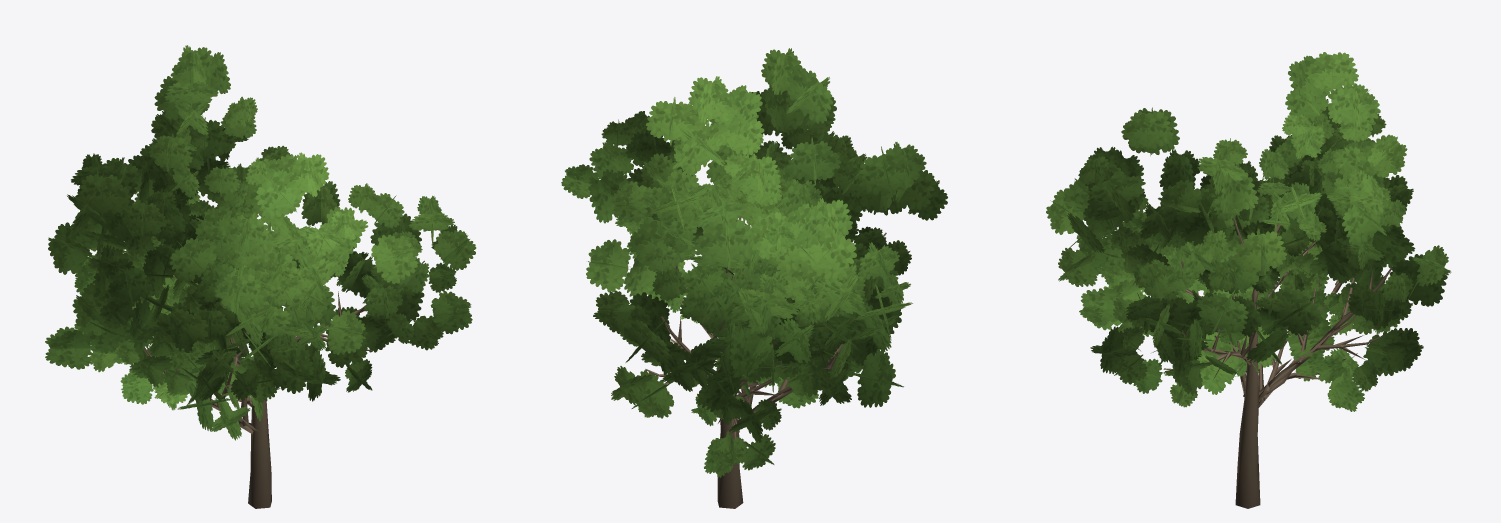
The model's file is roble-bajo.glb.
The picture shows the model from 3 angles, left to right: view 1: azimuth 30°, elevation 25°; view 2: azimuth 150°, elevation 25°; view 3: azimuth 270°, elevation 25°; orthographic projection. The views are drawn at different scales.
Parts seen in each view (by area): view 1: roble; view 2: roble; view 3: roble.
Boxes of the visible parts, x1=… form: roble: x1=45, y1=45, x2=476, y2=508; roble: x1=561, y1=48, x2=947, y2=508; roble: x1=1046, y1=52, x2=1451, y2=508.
Size of the model in its own units: 15.69 by 16.41 by 15.25.
Materials: 2 (1 with a texture image).
